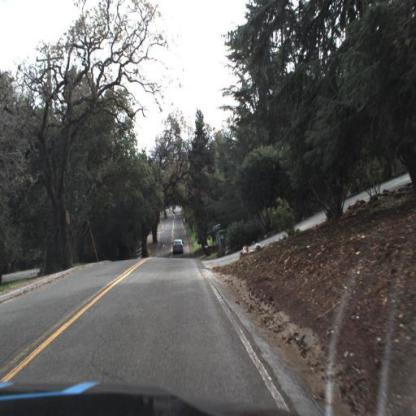car: (168, 238, 186, 256)
